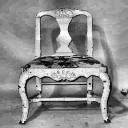chair_success: (14, 4, 116, 125)
